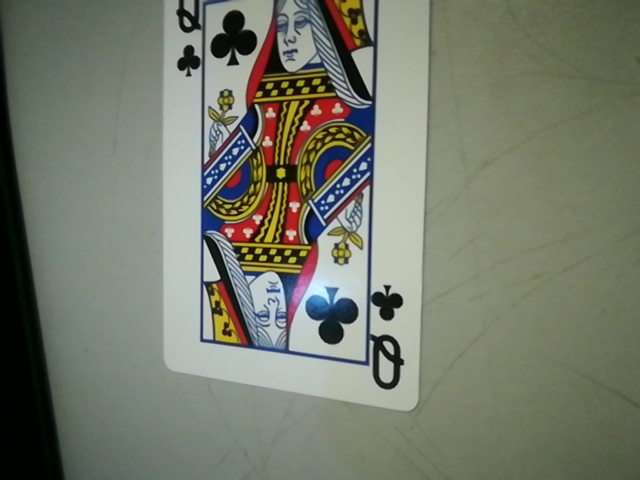mh q: (359, 279, 416, 401)
